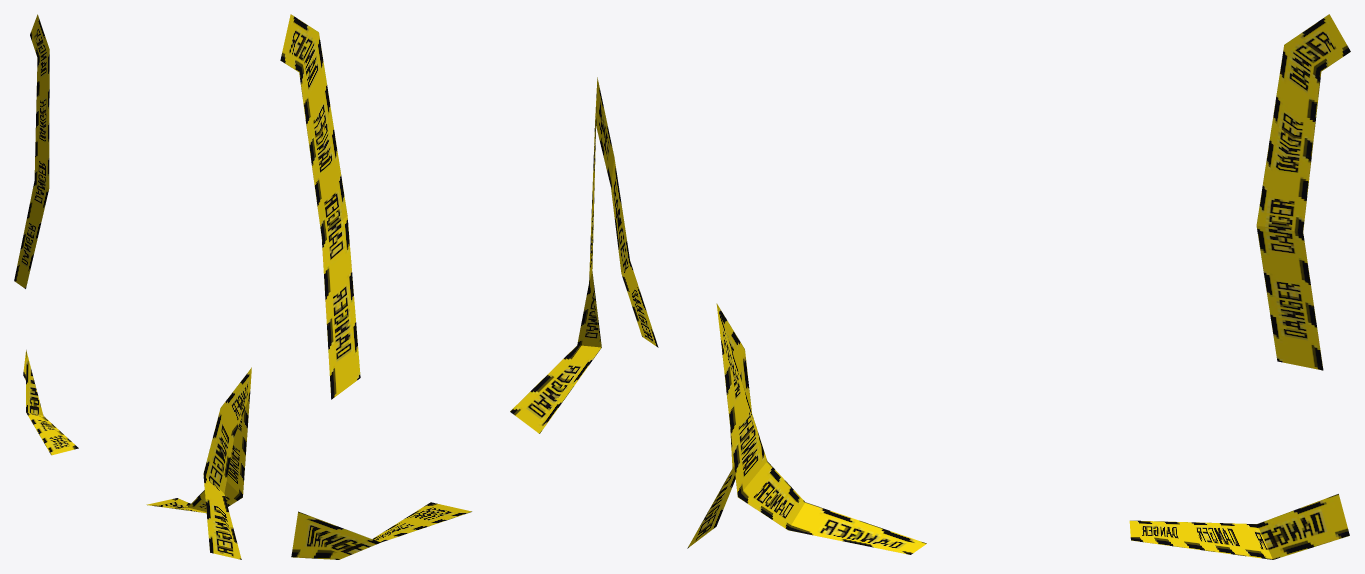
File: CintaRota.fbx
3 views of the same model, side by side, from view 1: azimuth 30°, elevation 25°; view 2: azimuth 150°, elevation 25°; view 3: azimuth 270°, elevation 25° (orthographic). The views are drawn at different scales.
Parts seen in each view (by area): view 1: CintaRota; view 2: CintaRota; view 3: CintaRota.
Part boxes in pixels (left/top/right/bottom): CintaRota: left=14, top=14, right=251, bottom=559; CintaRota: left=280, top=14, right=658, bottom=559; CintaRota: left=687, top=14, right=1350, bottom=559.
Size of the model in its own units: 43.11 by 274 by 297.
1 material, 1 textured.
